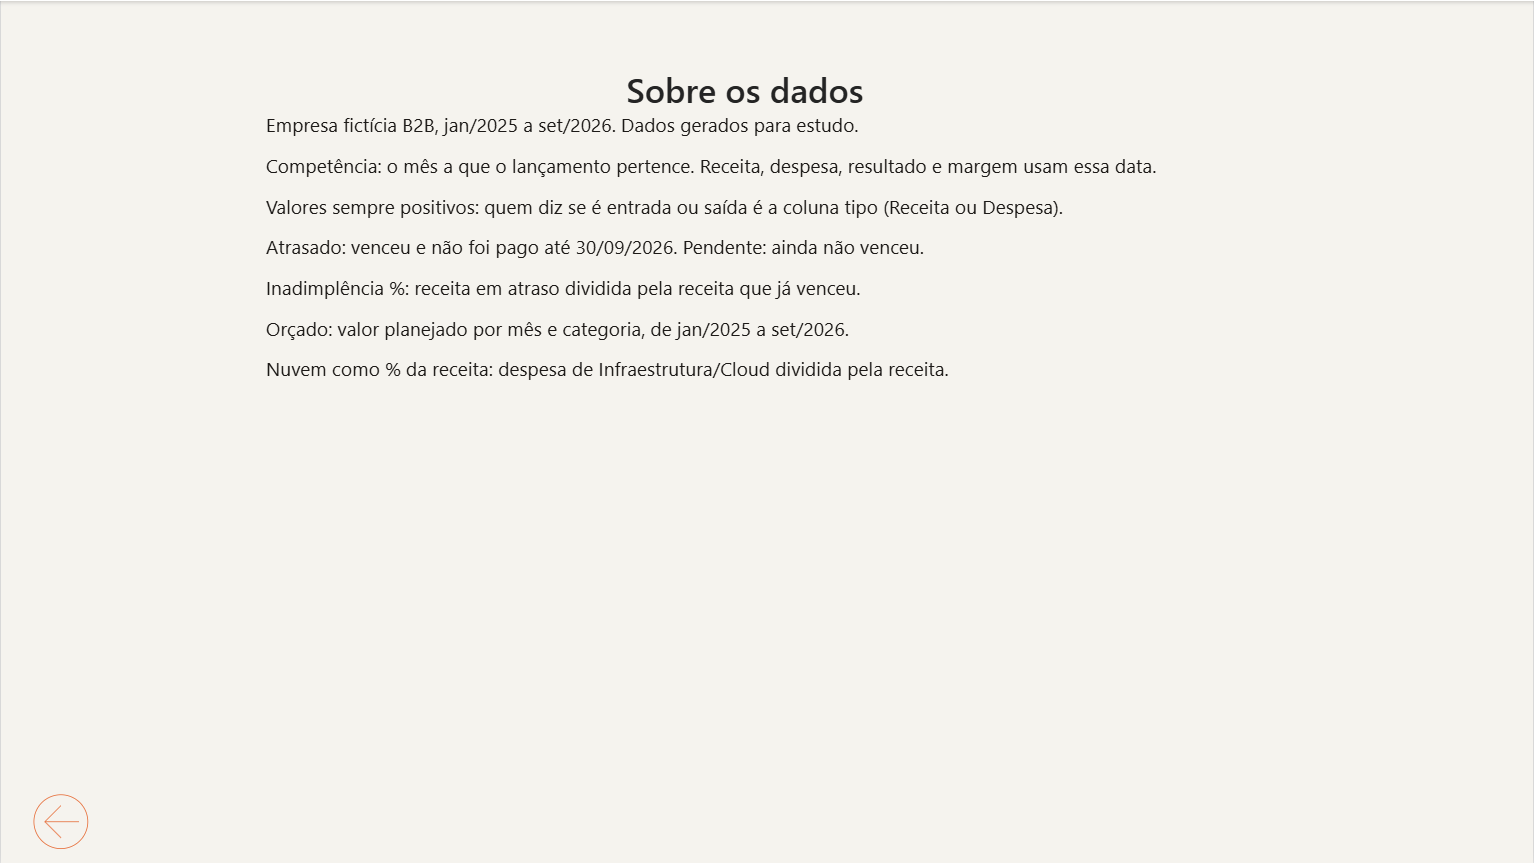

Layout of this report page (visuals, bound fields, positions):
{"tool":"powerbi","page":{"name":"Sobre Dados","canvas":[1920,1080],"ordinal":1},"visuals":[{"type":"textbox","box":[332,82,1200,700],"z":0},{"type":"actionButton","box":[0,967.1,150,112.9],"z":1}]}

Visuals, with their boxes in screenshot pixels (x1, y1, x2, y2), scaled from the page's 1920x1080 canvas onto the 1534x863 screenshot:
textbox: [left=265, top=66, right=1224, bottom=625]
actionButton: [left=0, top=773, right=120, bottom=862]
